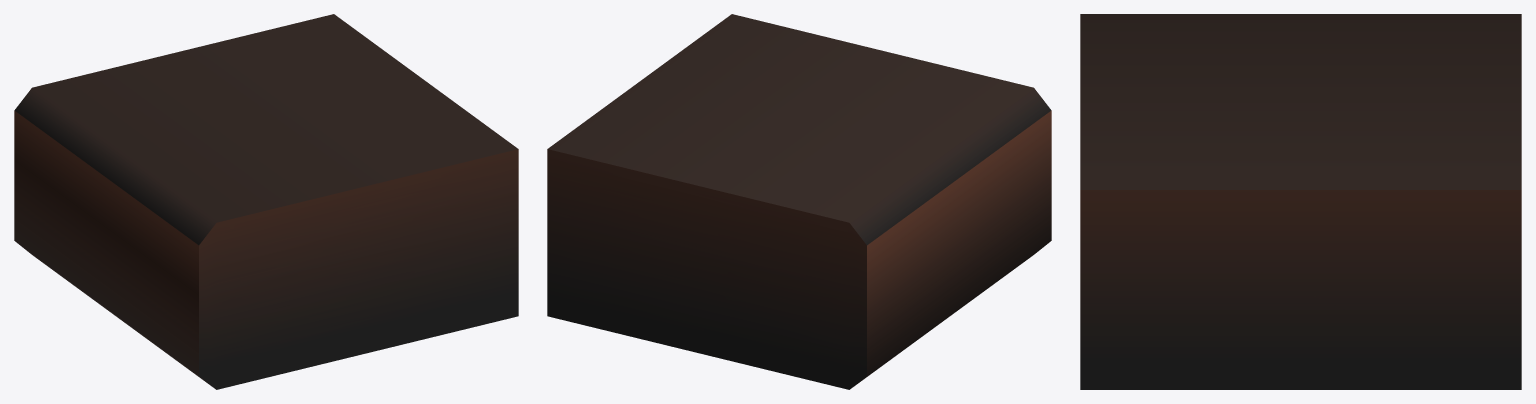
Rendered from m_Brownie01_Slice02.fbx.
The picture shows the model from 3 angles, left to right: view 1: azimuth 30°, elevation 25°; view 2: azimuth 150°, elevation 25°; view 3: azimuth 270°, elevation 25°; orthographic projection. The views are drawn at different scales.
Parts seen in each view (by area): view 1: m_Brownie01_Slice02; view 2: m_Brownie01_Slice02; view 3: m_Brownie01_Slice02.
Boxes of the visible parts, x1,y1,x2,y2 form: m_Brownie01_Slice02: (14, 14, 518, 389); m_Brownie01_Slice02: (547, 14, 1051, 389); m_Brownie01_Slice02: (1080, 14, 1521, 389).
Size of the model in its own units: 10 by 5 by 10.
